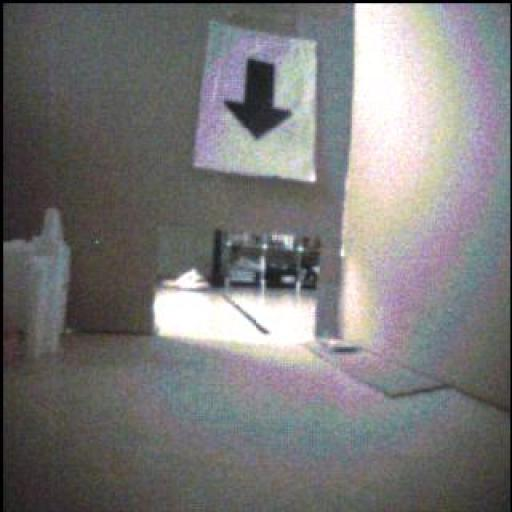arrow: (227, 60, 292, 140)
